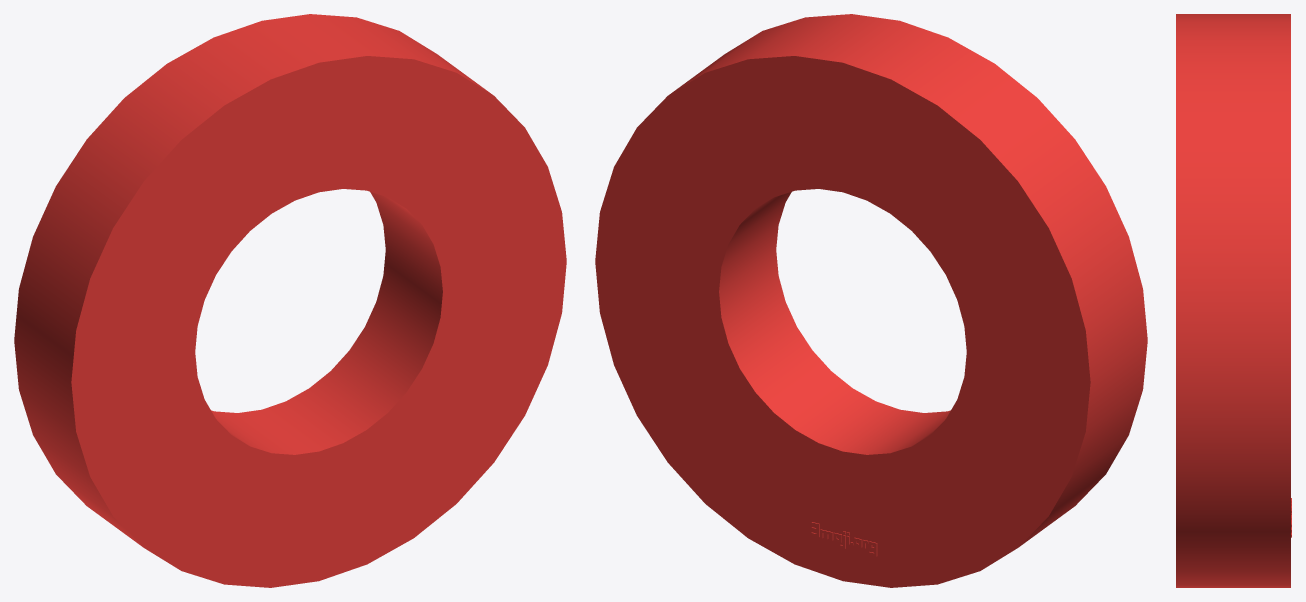
Rendered from hollow_red_circle.glb.
The picture shows the model from 3 angles, left to right: view 1: azimuth 30°, elevation 25°; view 2: azimuth 150°, elevation 25°; view 3: azimuth 270°, elevation 25°; orthographic projection.
Parts seen in each view (by area): view 1: Circle.2641; view 2: Circle.2641; view 3: Circle.2641.
Part boxes in pixels (x1,y1,x2,y2): Circle.2641: [14, 14, 566, 587]; Circle.2641: [595, 14, 1147, 587]; Circle.2641: [1176, 14, 1291, 587].
Size of the model in its own units: 2 by 2 by 0.4037.
Materials: 1 (1 with a texture image).
